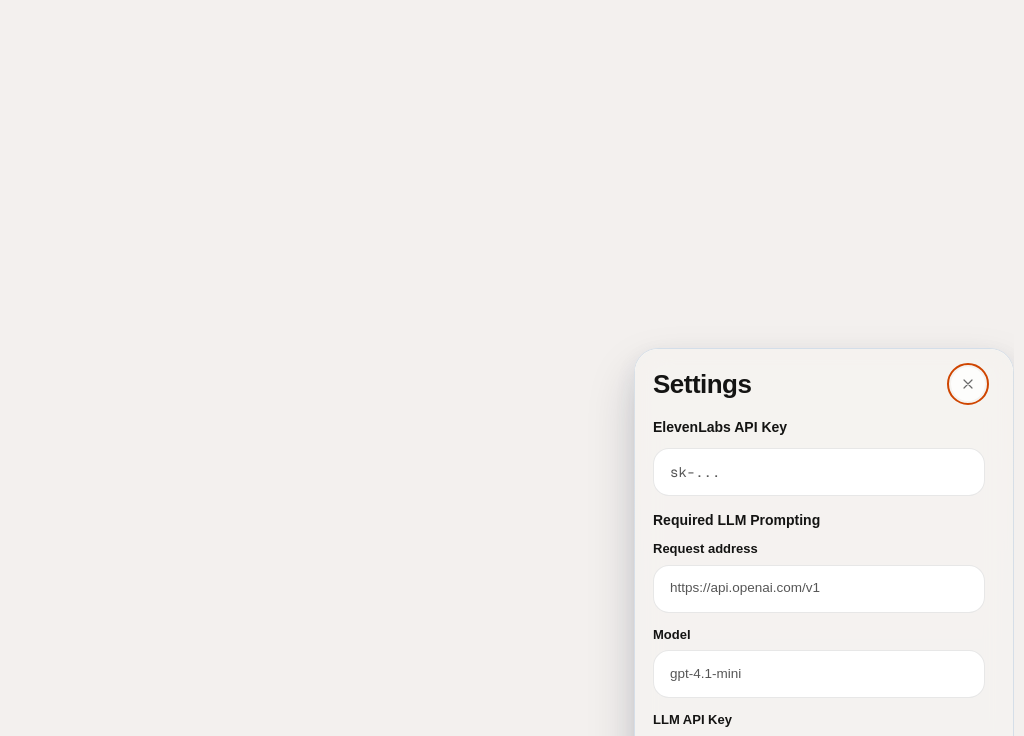
Test case: SettingsPanel › auto-saves and verifies the LLM configuration after typing completes
(page scrolled)
Step 1. Type " https://api.openai.com/v1/ " into the field labelled "Request address" → (819, 588), box [653, 564, 985, 612]
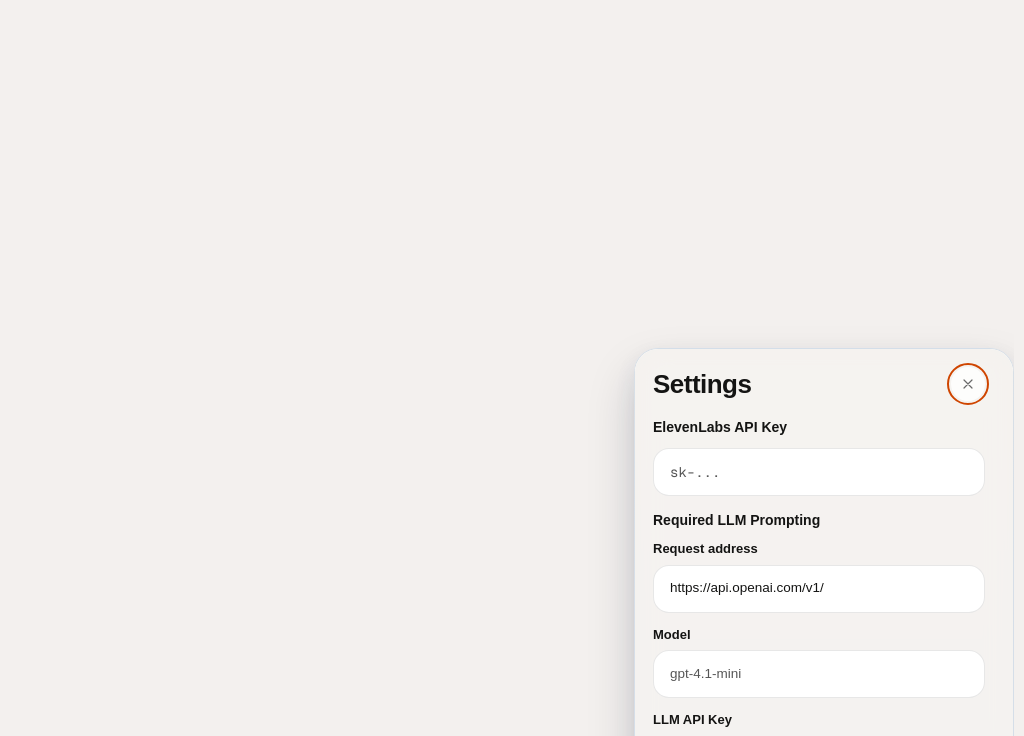
Step 2. Type " gpt-4.1-mini " into the field labelled "Model" → (819, 674), box [653, 650, 985, 698]
(page scrolled)
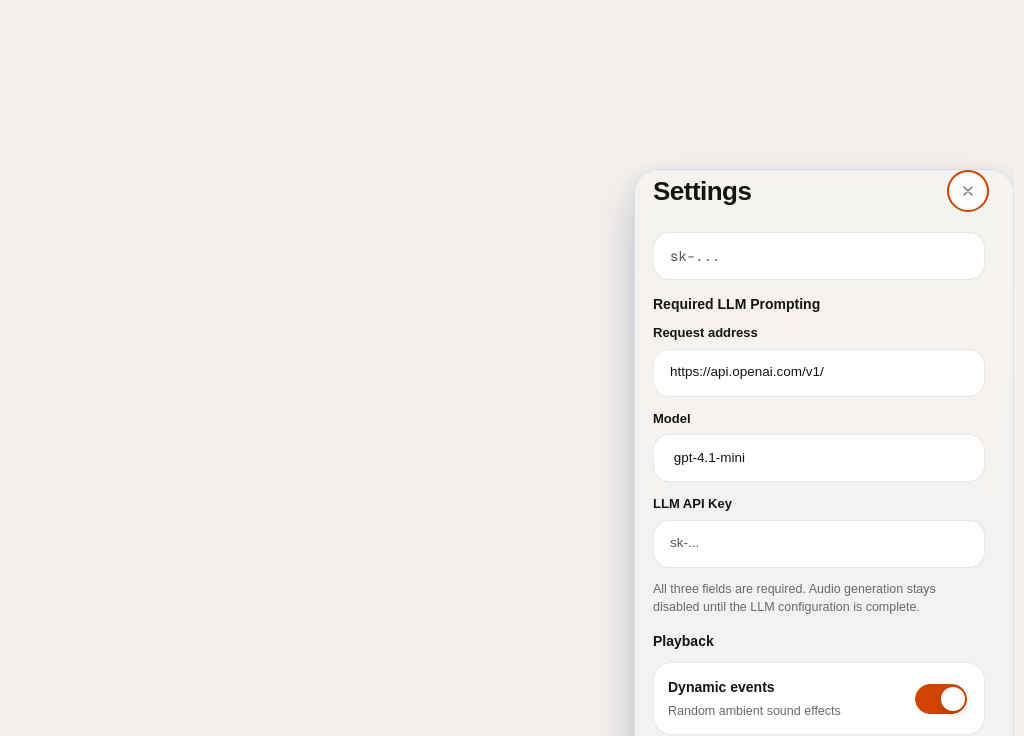
Step 3. Type " sk-llm-test-key " into the password field labelled "LLM API Key" → (819, 544), box [653, 520, 985, 568]
Wait 1600 ms
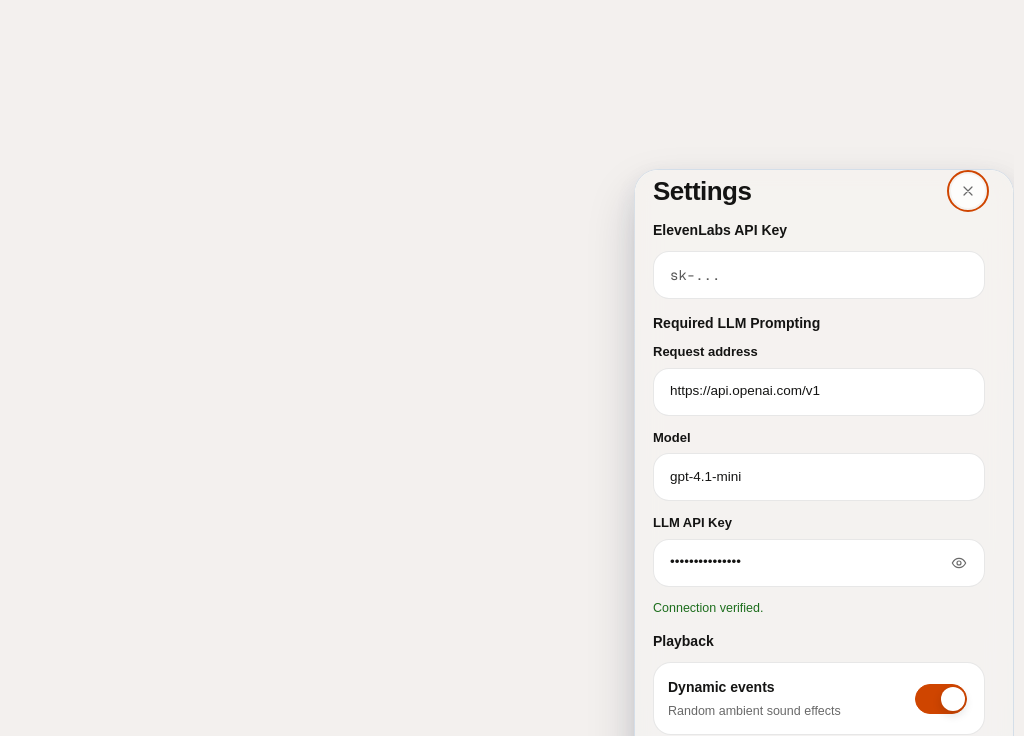
Result: the text "Connection verified." is shown at [653, 598, 764, 617]
